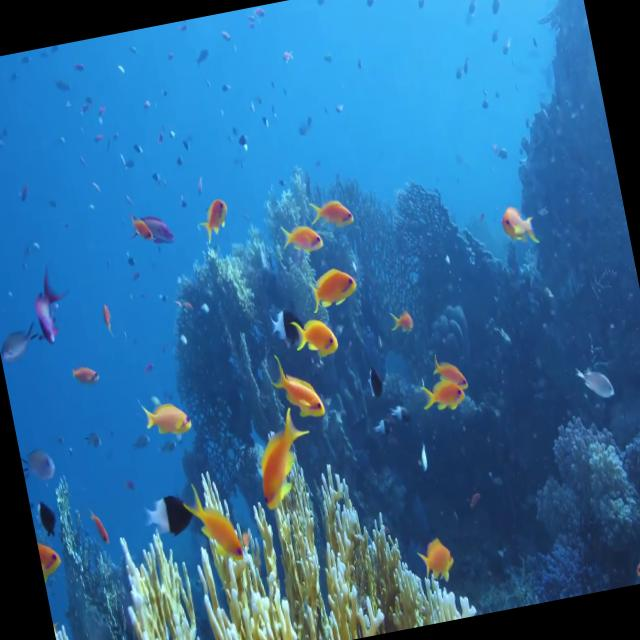fish: (242, 404, 324, 512), (176, 474, 247, 574), (264, 344, 330, 428), (22, 254, 78, 346), (494, 186, 548, 264), (296, 260, 364, 318), (136, 388, 198, 449), (141, 477, 195, 546), (193, 184, 238, 256), (287, 299, 339, 360), (0, 301, 49, 364), (304, 192, 362, 238), (136, 200, 178, 256), (418, 372, 468, 418), (430, 344, 474, 396), (358, 408, 402, 447), (281, 216, 325, 254), (358, 360, 392, 404), (37, 536, 67, 582), (391, 302, 421, 341), (130, 207, 156, 246), (386, 396, 414, 430)
